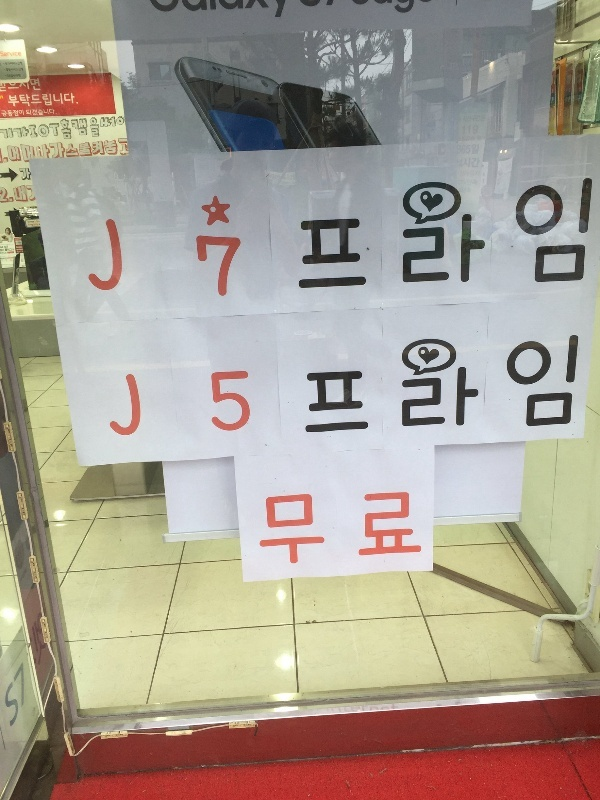text: (305, 172, 320, 296), (321, 172, 336, 296), (337, 172, 352, 296), (353, 172, 368, 296), (369, 172, 384, 296), (385, 172, 400, 296), (401, 172, 416, 296), (417, 172, 432, 296), (433, 172, 448, 296), (449, 172, 464, 296), (465, 172, 480, 296), (481, 172, 496, 296), (497, 172, 512, 296), (513, 172, 528, 296), (529, 172, 544, 296), (545, 172, 560, 296), (561, 172, 576, 296), (577, 172, 592, 296), (305, 328, 320, 441), (321, 328, 336, 441), (337, 328, 352, 441), (353, 328, 368, 441), (369, 328, 384, 441), (385, 328, 400, 441), (401, 328, 416, 441), (417, 328, 432, 441), (433, 328, 448, 441), (449, 328, 464, 441), (465, 328, 480, 441), (481, 328, 496, 441), (497, 328, 512, 441), (513, 328, 528, 441), (529, 328, 544, 441), (545, 328, 560, 441), (561, 328, 576, 441), (97, 214, 112, 299), (113, 214, 128, 299), (273, 487, 288, 569), (289, 487, 304, 569), (305, 487, 320, 569), (321, 487, 336, 569), (337, 487, 352, 569), (353, 487, 368, 569), (369, 487, 384, 569), (385, 487, 400, 569), (401, 487, 416, 569), (113, 372, 128, 450), (129, 372, 144, 450), (209, 364, 224, 436), (225, 364, 240, 436), (209, 235, 224, 305), (225, 235, 240, 305), (84, 214, 96, 299), (241, 364, 254, 436), (195, 235, 208, 305), (4, 660, 16, 731), (417, 487, 427, 569), (298, 172, 304, 296), (577, 328, 583, 441), (264, 487, 272, 569), (105, 372, 112, 450), (561, 84, 576, 118), (17, 660, 24, 731), (593, 172, 596, 296), (241, 235, 246, 305), (113, 137, 129, 158), (65, 118, 80, 140), (81, 118, 96, 140), (49, 137, 64, 158), (65, 137, 80, 158), (81, 137, 96, 158), (97, 137, 112, 158), (17, 144, 32, 164), (33, 144, 48, 164), (1, 185, 16, 204), (17, 92, 32, 109), (33, 92, 48, 109), (49, 92, 64, 109), (65, 92, 80, 109), (17, 183, 29, 203), (3, 61, 16, 79), (33, 124, 48, 138), (465, 142, 480, 156), (1, 127, 16, 140), (465, 157, 481, 169), (19, 168, 32, 182), (465, 167, 479, 180), (7, 144, 16, 164), (465, 124, 480, 136), (17, 127, 30, 140), (1, 82, 16, 93), (145, 372, 147, 450), (17, 82, 31, 93), (438, 143, 448, 158), (17, 61, 25, 79), (49, 124, 59, 138), (8, 92, 16, 109), (33, 77, 42, 92), (33, 108, 48, 117), (465, 114, 480, 123), (465, 177, 478, 187), (101, 117, 112, 128), (1, 110, 16, 118), (26, 184, 32, 204), (1, 51, 16, 58), (117, 117, 128, 126), (483, 178, 496, 185), (60, 118, 64, 140), (458, 142, 464, 156), (49, 108, 58, 117), (456, 177, 464, 187), (1, 248, 16, 253), (1, 251, 16, 256), (97, 118, 100, 140), (3, 158, 16, 163), (459, 167, 464, 180), (17, 110, 25, 118), (33, 220, 41, 228), (13, 183, 16, 203), (33, 184, 36, 204), (1, 245, 16, 249), (484, 172, 496, 177), (26, 108, 32, 117), (17, 246, 24, 253), (460, 157, 464, 169), (4, 245, 16, 249), (481, 114, 486, 123), (29, 124, 32, 138), (49, 144, 51, 164), (27, 220, 32, 228), (17, 51, 22, 58), (113, 117, 116, 128), (30, 77, 32, 92), (462, 124, 464, 136), (463, 114, 464, 123)
